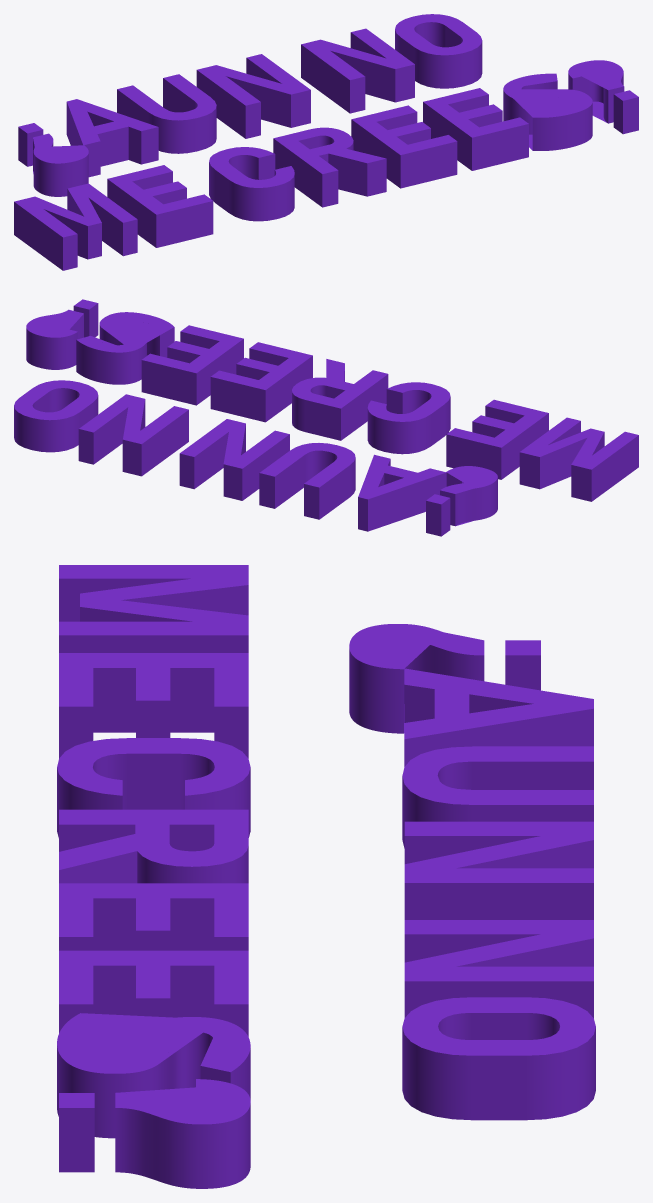
Rendered from aun.obj.
The picture shows the model from 3 angles, top to bottom: view 1: azimuth 30°, elevation 25°; view 2: azimuth 150°, elevation 25°; view 3: azimuth 270°, elevation 25°; orthographic projection. The views are drawn at different scales.
Size of the model in its own units: 74.45 by 4 by 30.31.
